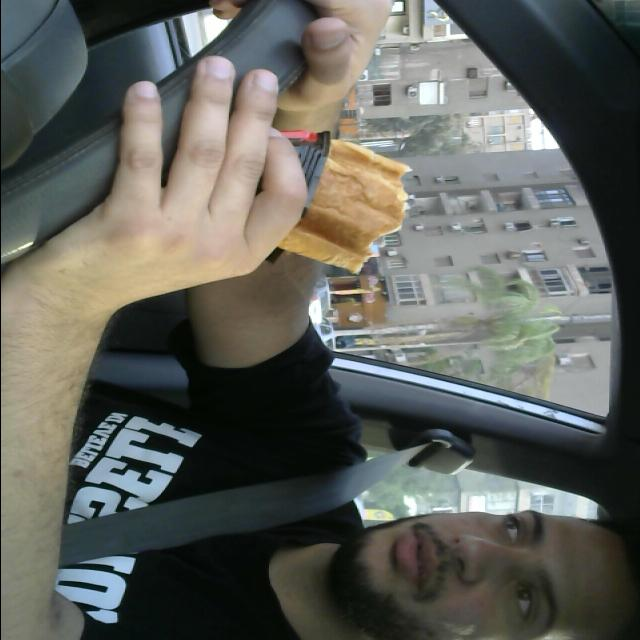eating: (144, 110, 412, 280)
